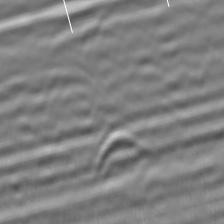Utility: (95, 124, 150, 176)
